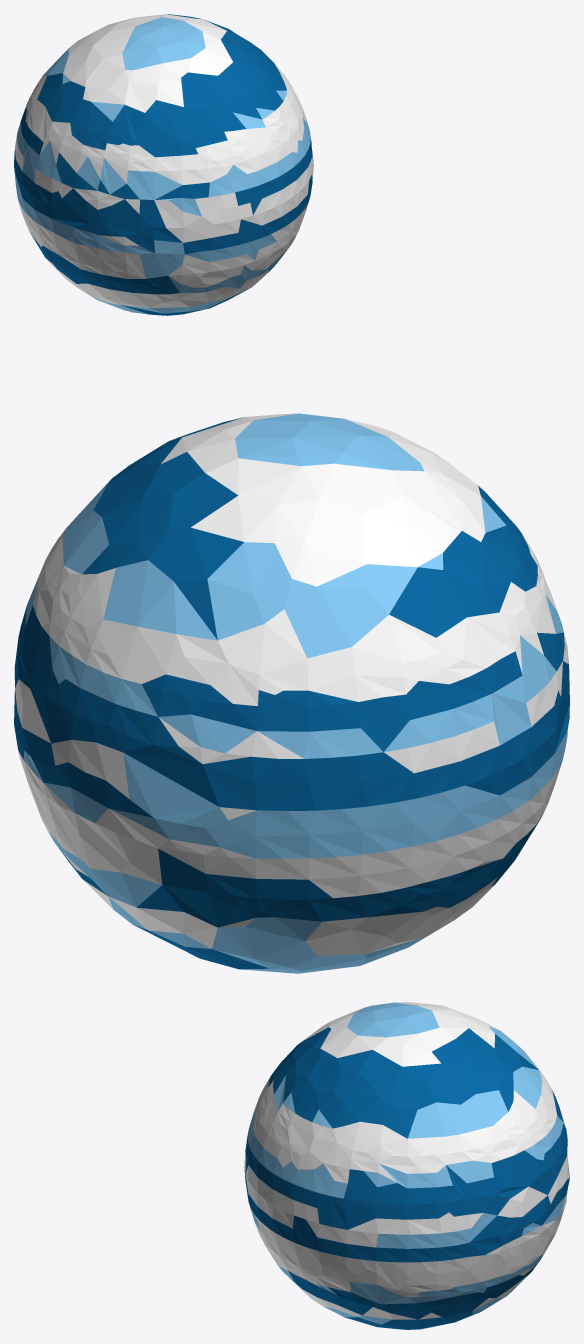
The picture shows the model from 3 angles, top to bottom: view 1: azimuth 30°, elevation 25°; view 2: azimuth 150°, elevation 25°; view 3: azimuth 270°, elevation 25°; orthographic projection. The views are drawn at different scales.
Parts seen in each view (by area): view 1: Neptune; view 2: Neptune; view 3: Neptune.
Boxes of the visible parts, x1,y1,x2,y2 form: Neptune: (14,14,313,315); Neptune: (14,413,569,973); Neptune: (244,1002,569,1329).
Bounding box in the file's own units: 433884 × 320809 × 541101.
